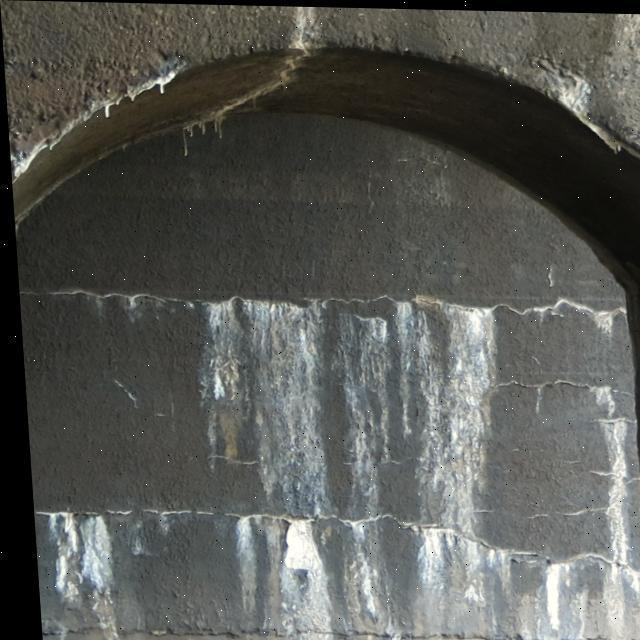D01: (402, 306, 493, 586), (238, 298, 329, 513), (10, 90, 133, 179), (10, 102, 109, 177), (278, 522, 333, 637), (538, 74, 621, 150)
